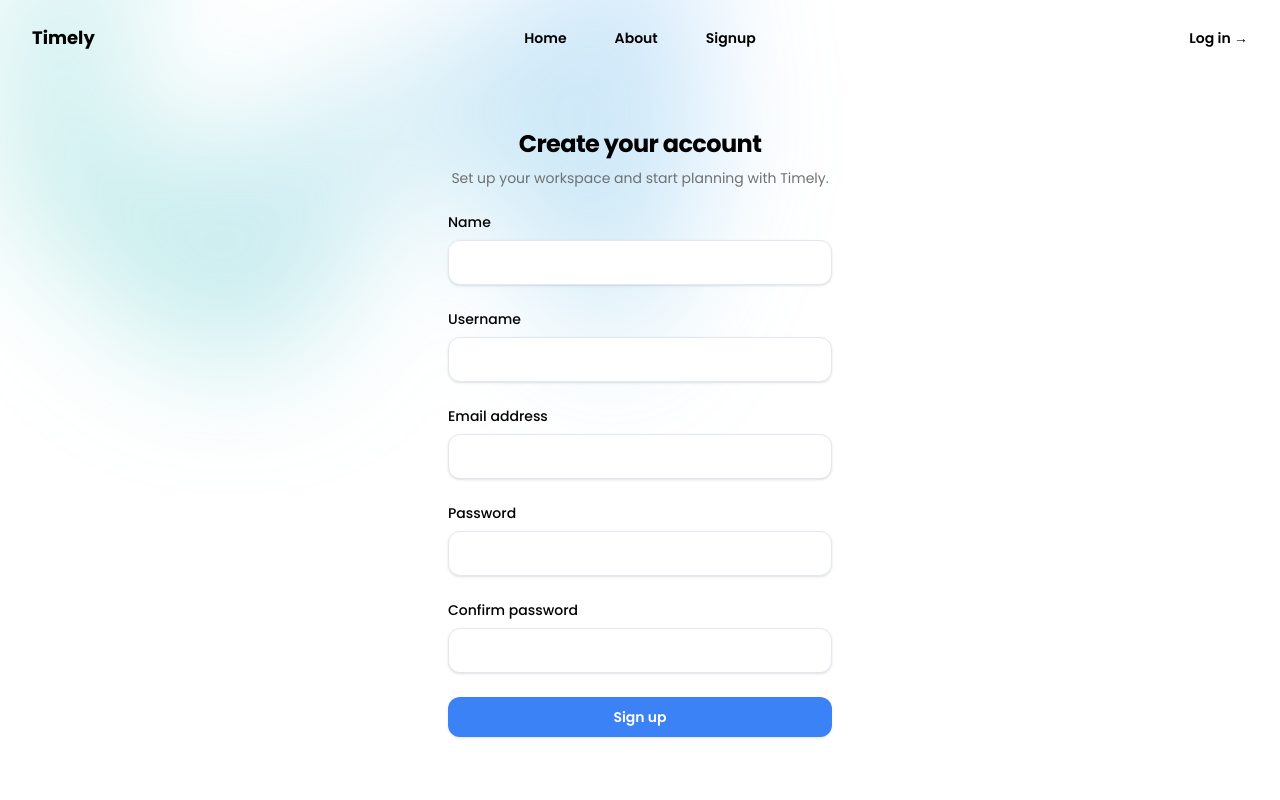
Test: Signup page › disables submit and shows loading text while signing up
In the field labelled "Name": (640, 262) [448,240,832,284], type "Carol Example"
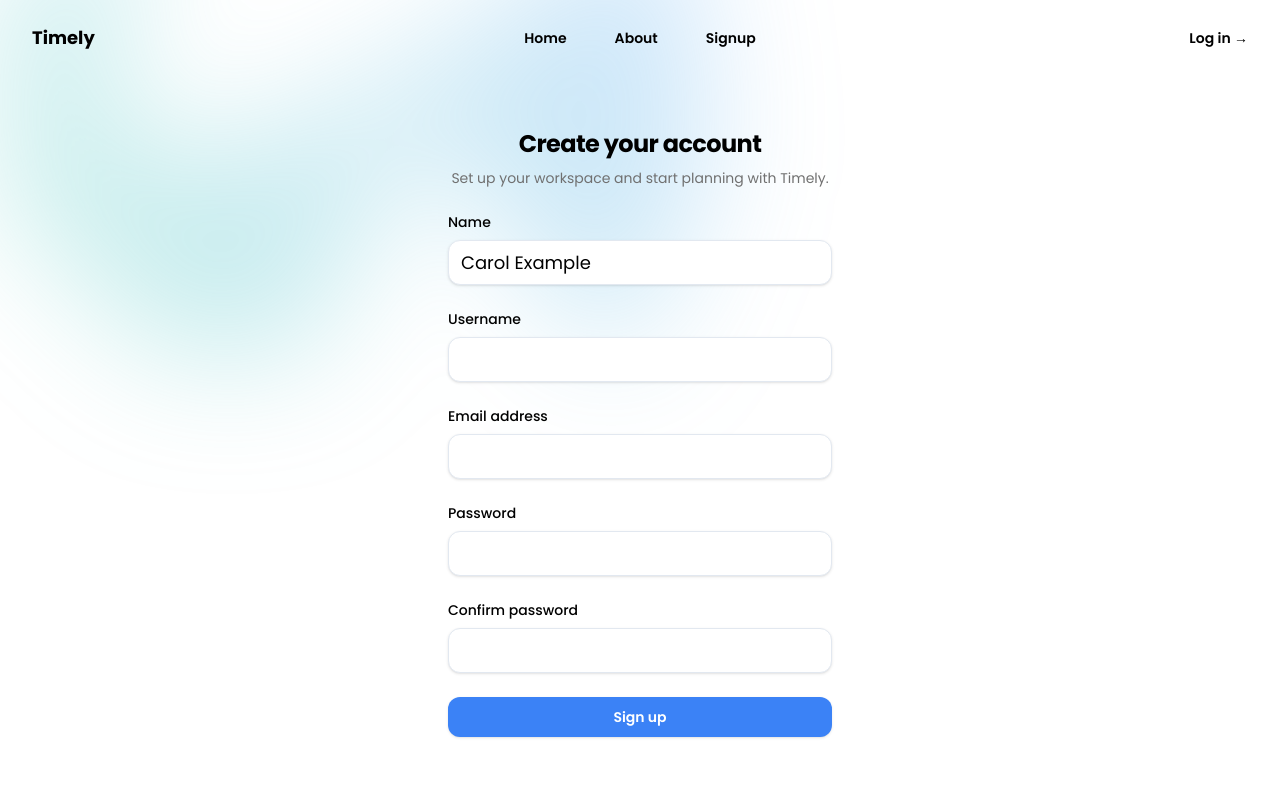
In the field labelled "Username": (640, 359) [448,336,832,382], type "carol"
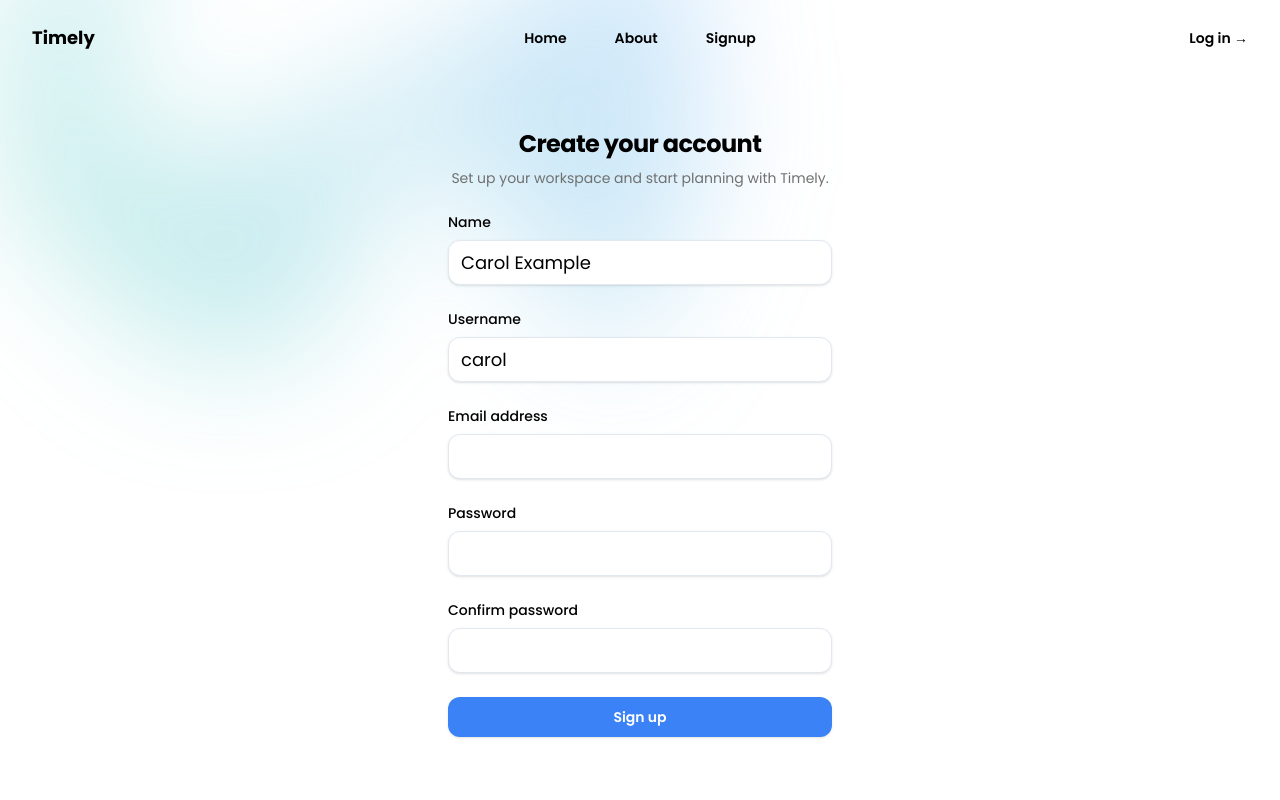
In the field labelled "Email address": (640, 456) [448,434,832,478], type "carol@example.com"
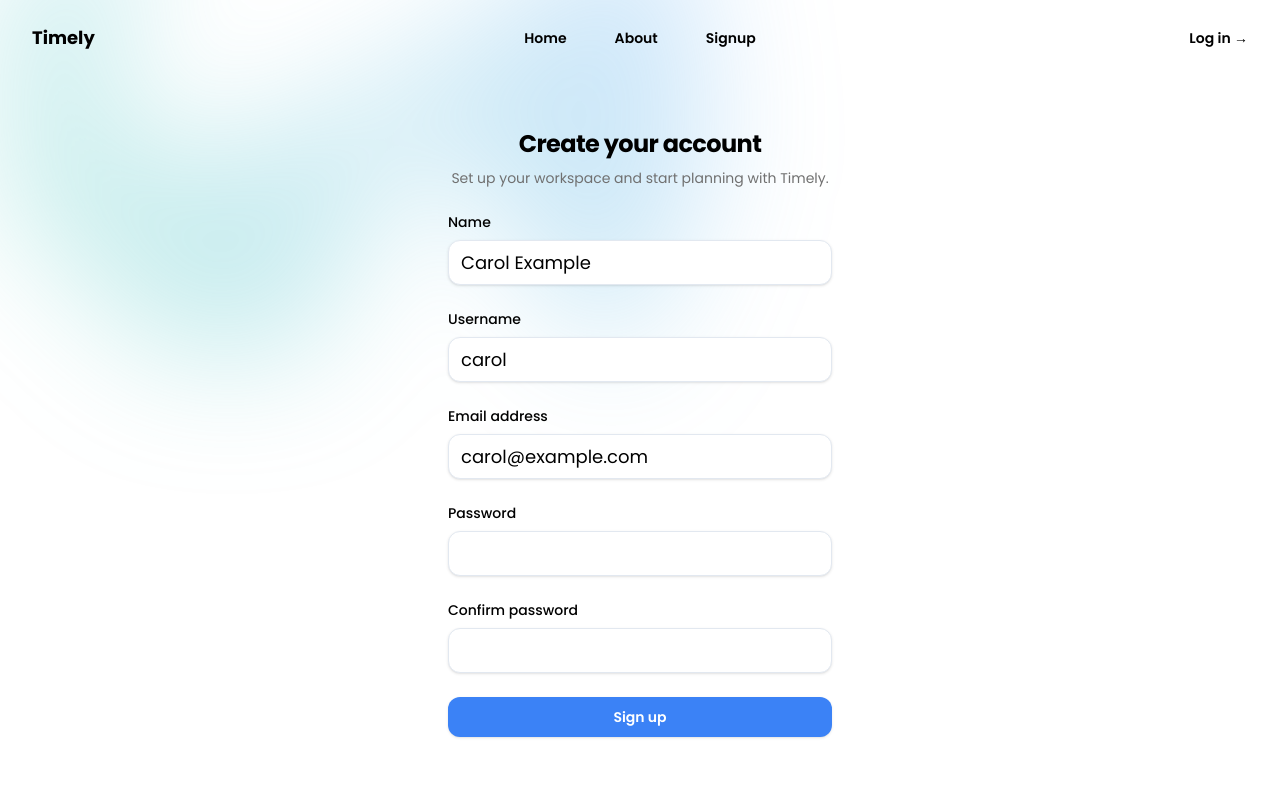
In the password field labelled "Password": (640, 553) [448,530,832,576], type "pw"
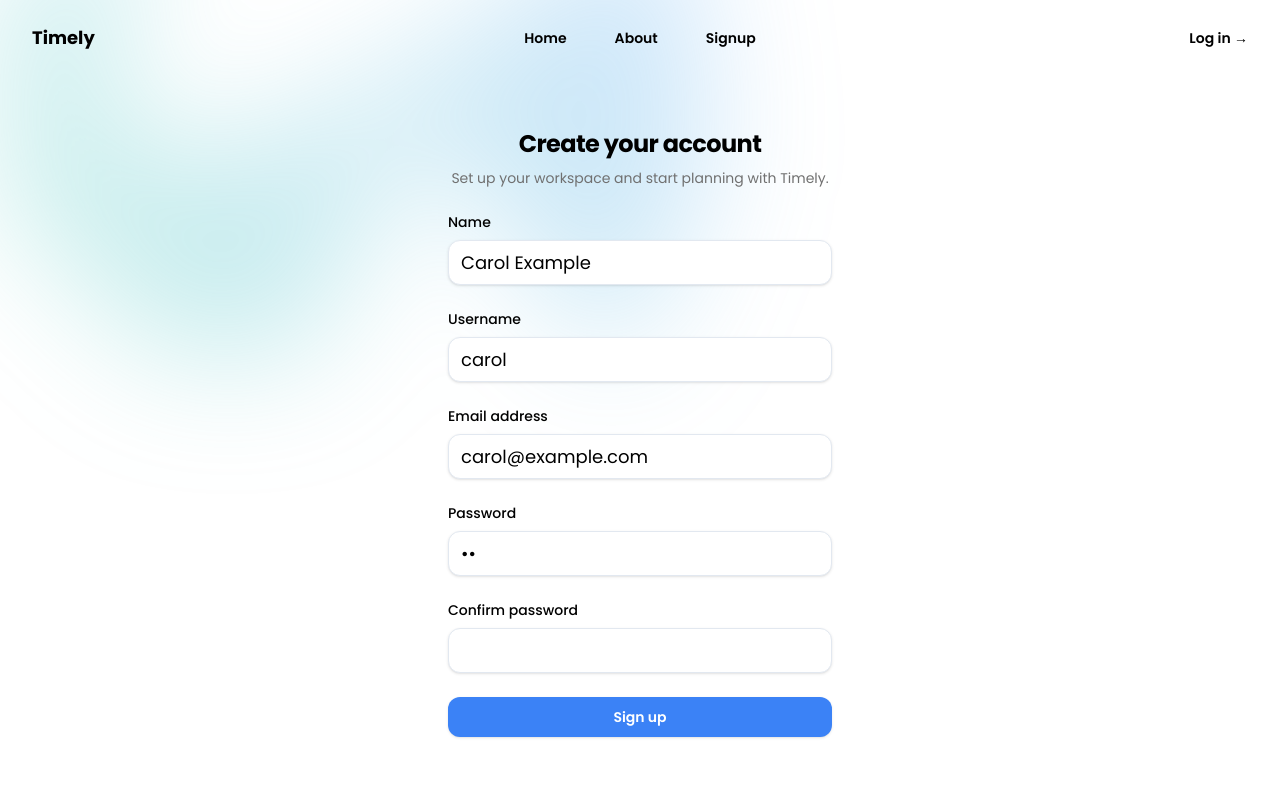
In the password field labelled "Confirm password": (640, 650) [448,628,832,672], type "pw"
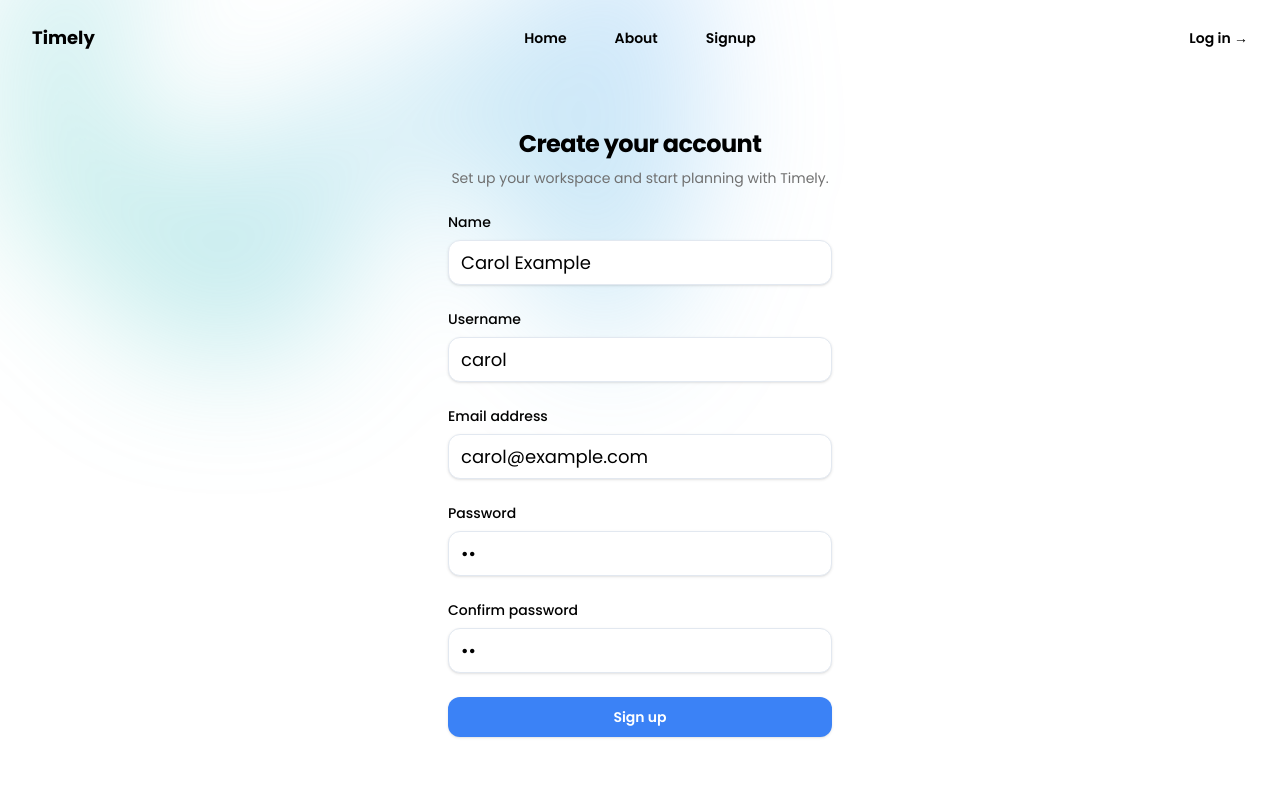
Click the button "Sign up": click(640, 716) [448,696,832,736]
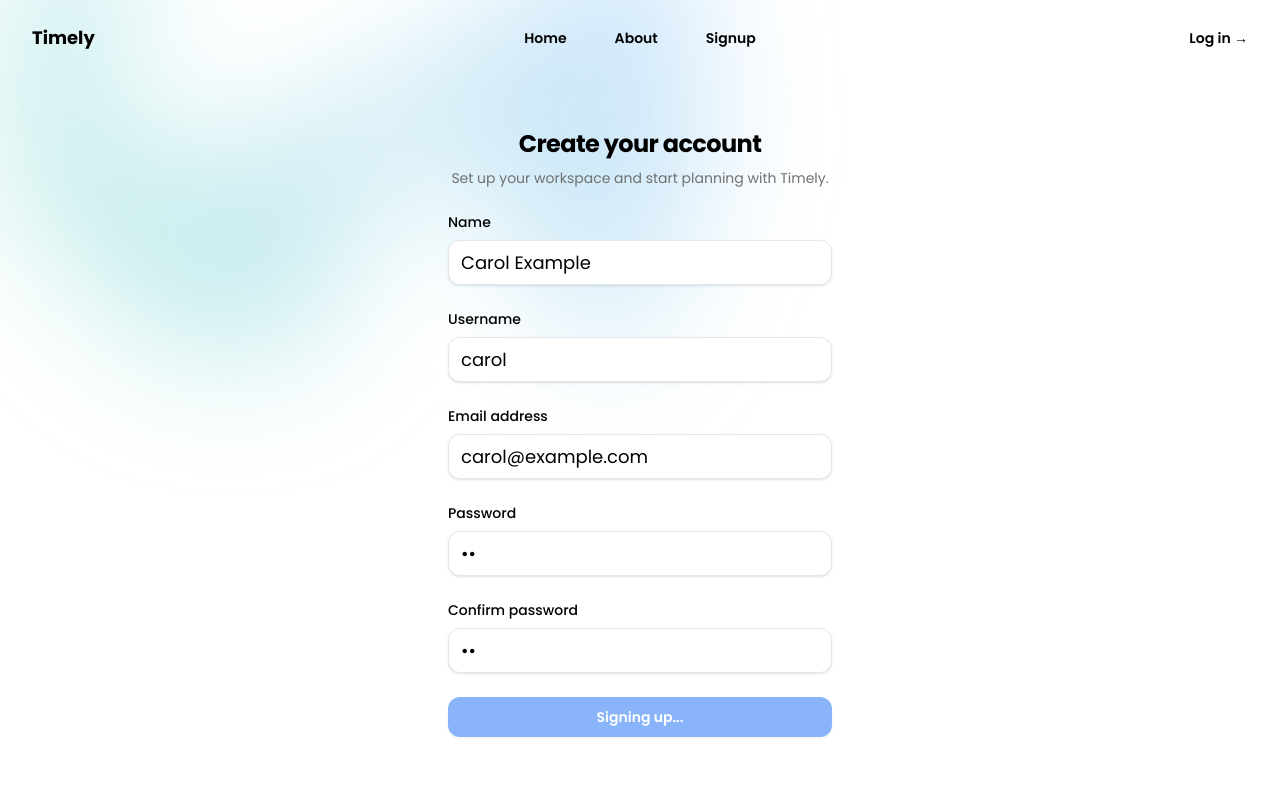
Expected: the button named "sign up" is disabled, [448,696,832,736]
Expected: the button named "sign up" shows "Signing up", [448,696,832,736]
